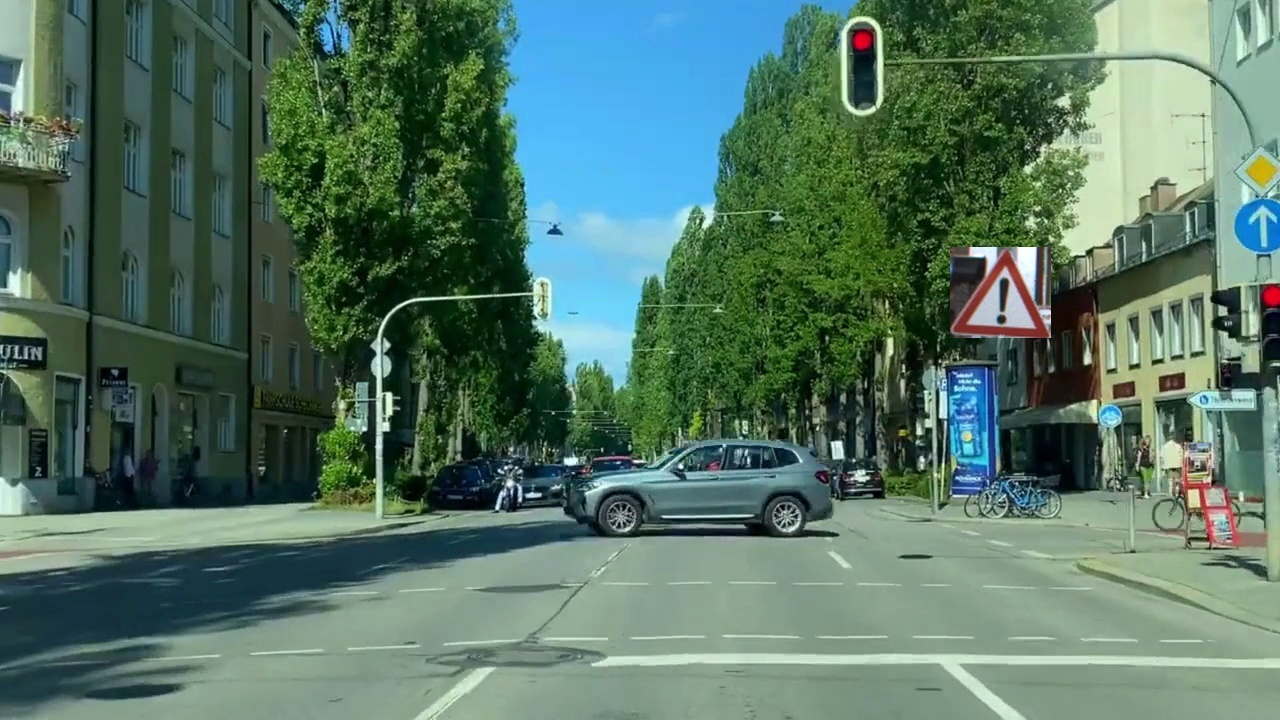Caution: (950, 247, 1051, 338)
